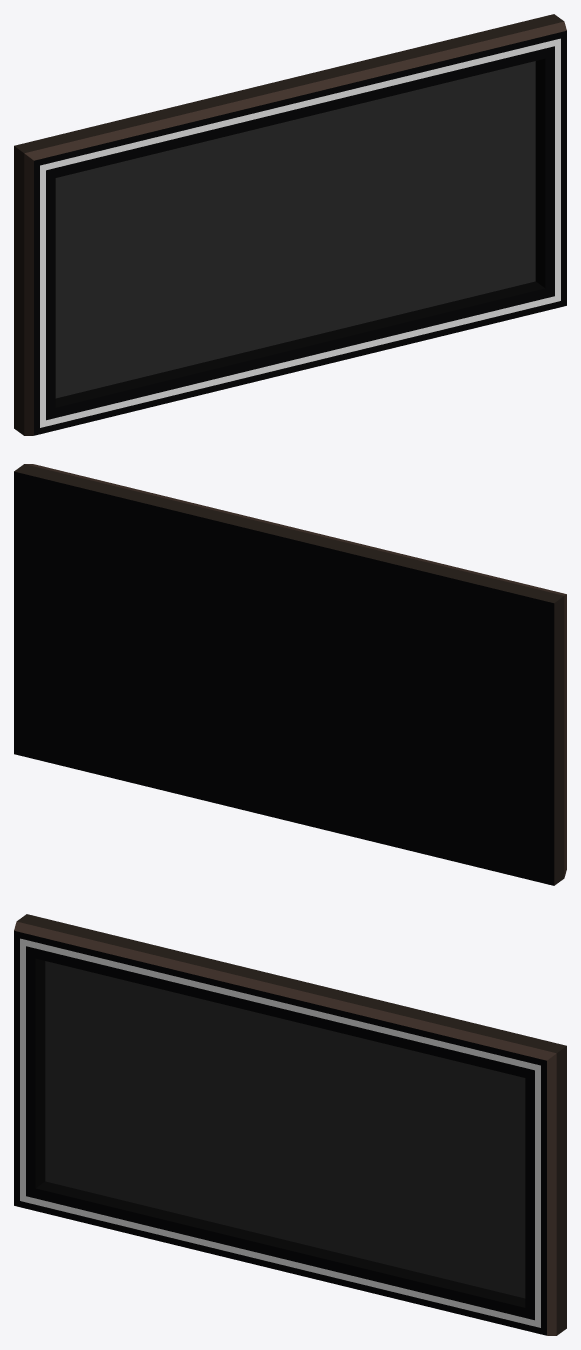
File: Scoreboard.glb
3 renders of one model, top to bottom at view 1: azimuth 30°, elevation 25°; view 2: azimuth 150°, elevation 25°; view 3: azimuth 330°, elevation 25°, orthographic.
Parts seen in each view (by area): view 1: Scoreboard.002; view 2: Scoreboard.002; view 3: Scoreboard.002.
Boxes of the visible parts, bbox=[...] form: Scoreboard.002: bbox=[14, 14, 566, 435]; Scoreboard.002: bbox=[14, 464, 566, 885]; Scoreboard.002: bbox=[14, 914, 566, 1335].
Size of what is drawn, in the model's own units: 1.85 by 0.9259 by 0.0974.
Materials: 1 (1 with a texture image).
